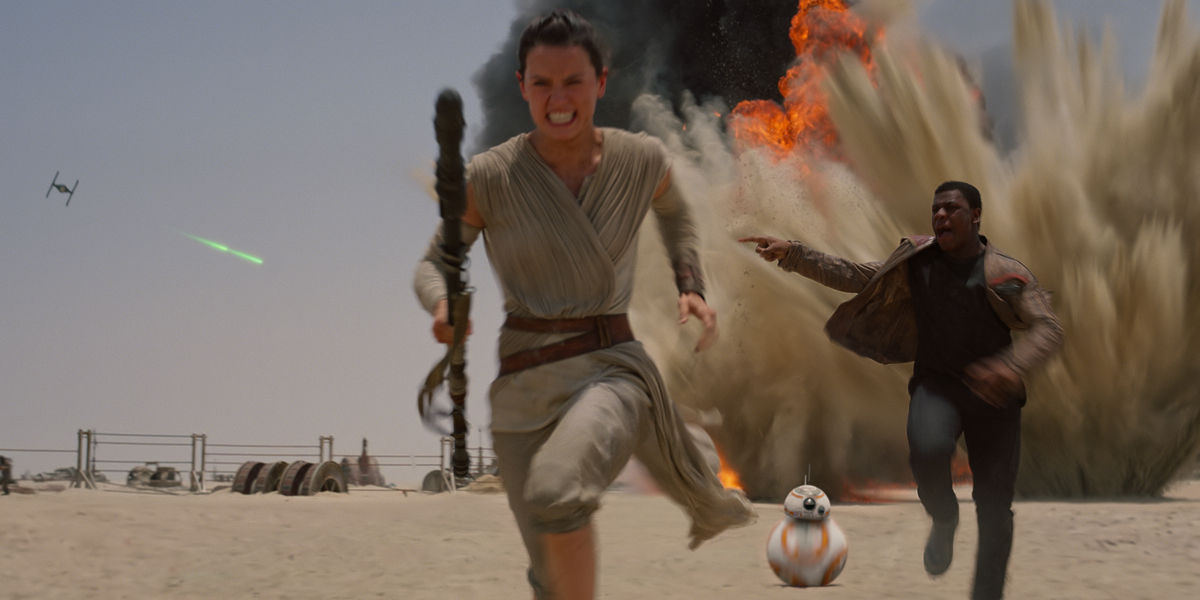bb8: (766, 483, 849, 587)
